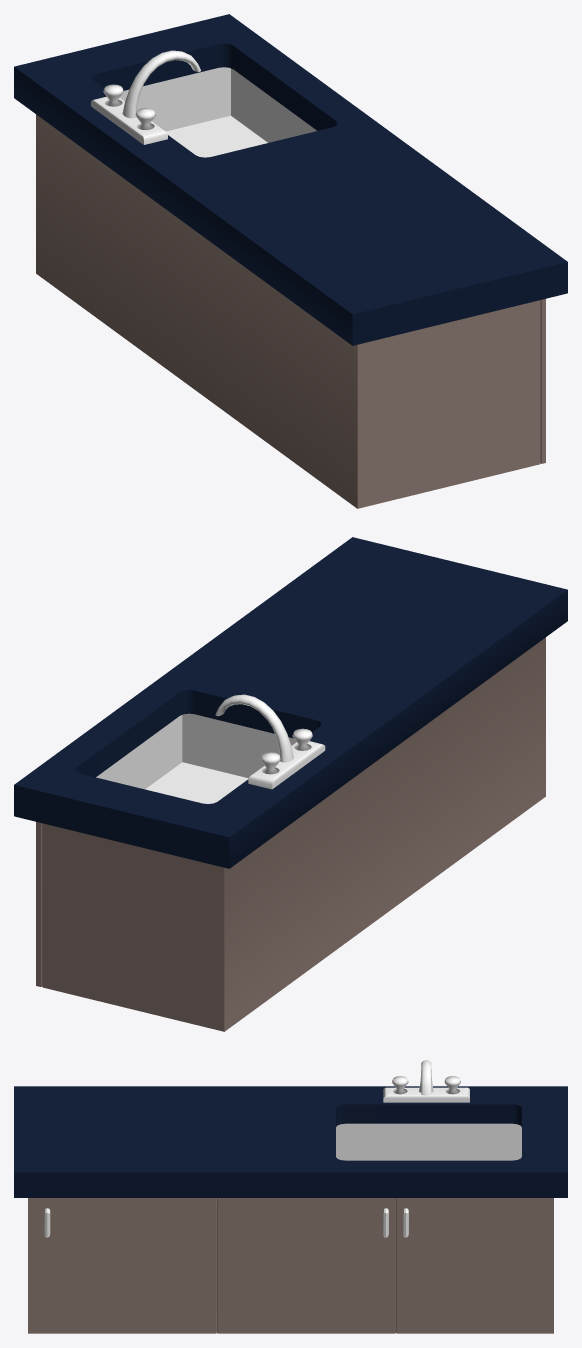
File: ScienceCounter.fbx
The picture shows the model from 3 angles, top to bottom: view 1: azimuth 30°, elevation 25°; view 2: azimuth 150°, elevation 25°; view 3: azimuth 270°, elevation 25°; orthographic projection. The views are drawn at different scales.
Parts seen in each view (by area): view 1: pasted__pCube2, pCube3, pTorus1; view 2: pasted__pCube2, pCube3, pTorus1; view 3: pasted__pCube2, pCube3, pTorus1.
Boxes of the visible parts, x1,y1,x2,y2 form: pasted__pCube2: [14, 14, 567, 508]; pCube3: [91, 96, 167, 144]; pTorus1: [122, 50, 200, 118]; pasted__pCube2: [14, 537, 567, 1031]; pCube3: [248, 741, 325, 789]; pTorus1: [215, 694, 293, 762]; pasted__pCube2: [14, 1086, 567, 1333]; pCube3: [383, 1087, 469, 1102]; pTorus1: [419, 1060, 433, 1095].
Bounding box in the file's own units: 47.96 × 56.37 × 131.
